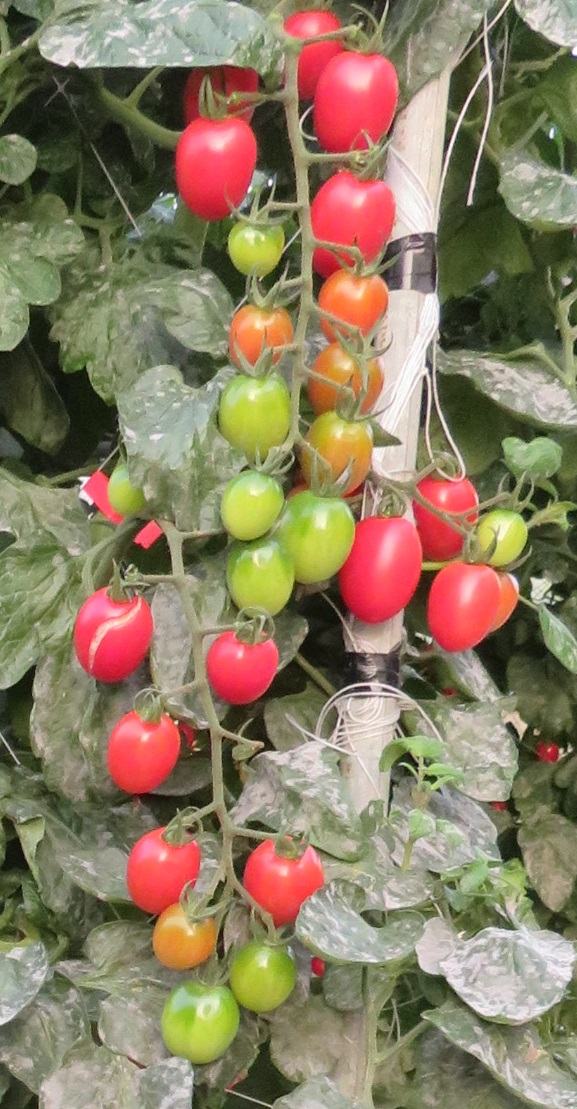green: (158, 975, 243, 1068), (290, 486, 355, 594), (218, 376, 292, 460), (224, 941, 296, 1021), (225, 539, 297, 616), (212, 469, 290, 535), (220, 210, 283, 280), (467, 510, 527, 559), (105, 452, 143, 526)
orange: (302, 412, 374, 486), (317, 269, 396, 332), (149, 899, 218, 970), (225, 305, 302, 368), (314, 347, 384, 415)
red: (172, 116, 260, 223), (314, 170, 400, 274), (338, 515, 420, 622), (421, 552, 500, 653), (71, 582, 150, 682), (315, 56, 396, 152), (101, 709, 180, 794), (123, 827, 203, 906), (202, 633, 280, 710), (238, 840, 317, 912), (283, 10, 343, 101), (418, 470, 477, 558), (539, 740, 561, 764), (311, 954, 327, 977)
